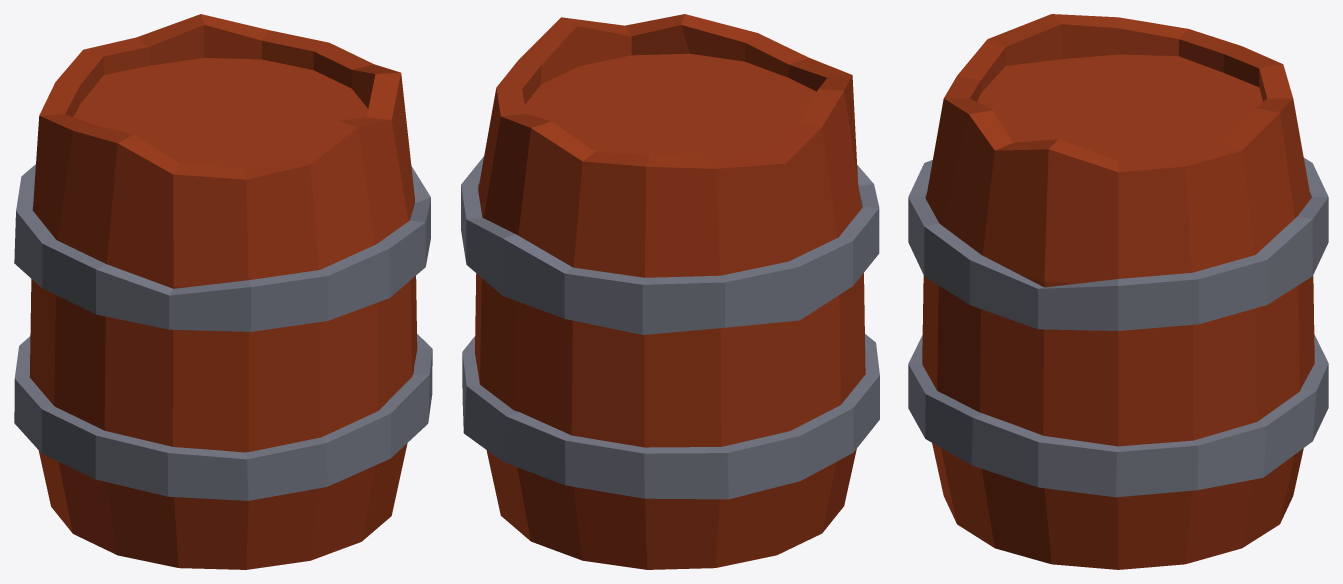
Rendered from Cask.fbx.
3 renders of one model, left to right at view 1: azimuth 30°, elevation 25°; view 2: azimuth 150°, elevation 25°; view 3: azimuth 270°, elevation 25°, orthographic.
Visible parts, largest first — view 1: Cask; view 2: Cask; view 3: Cask.
Part boxes in pixels (x1,y1,x2,y2): Cask: (14, 14, 432, 569); Cask: (461, 14, 879, 569); Cask: (908, 14, 1328, 569).
Size of the model in its own units: 119 by 130 by 119.
